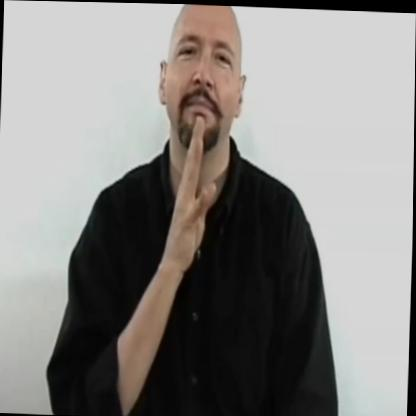Talk: (157, 3, 270, 282)
